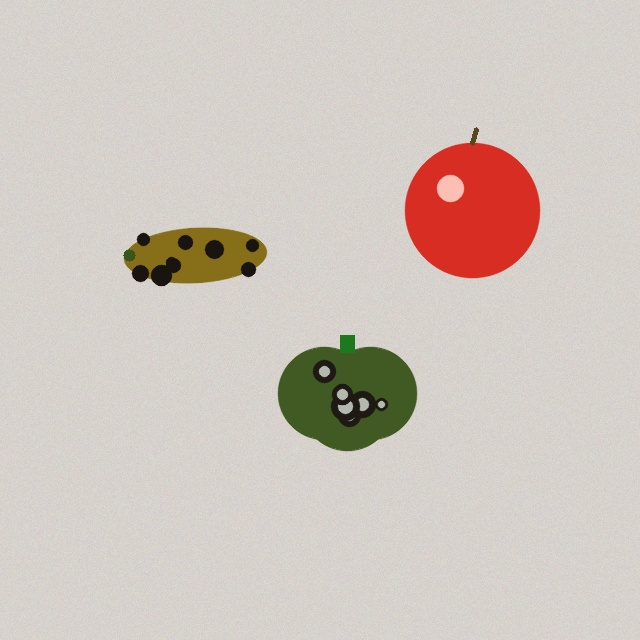Fresh apple: (405, 129, 539, 277)
Rotten banana: (121, 222, 269, 288)
Rotten bell pepper: (278, 335, 416, 450)
